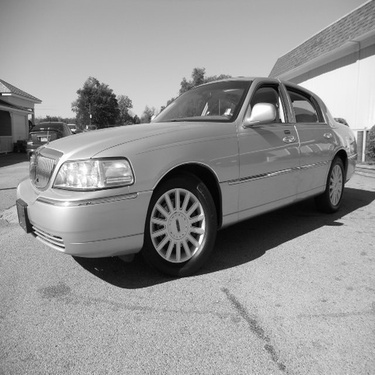car: (9, 69, 365, 281), (24, 118, 72, 159), (62, 117, 80, 134), (83, 118, 97, 135)
